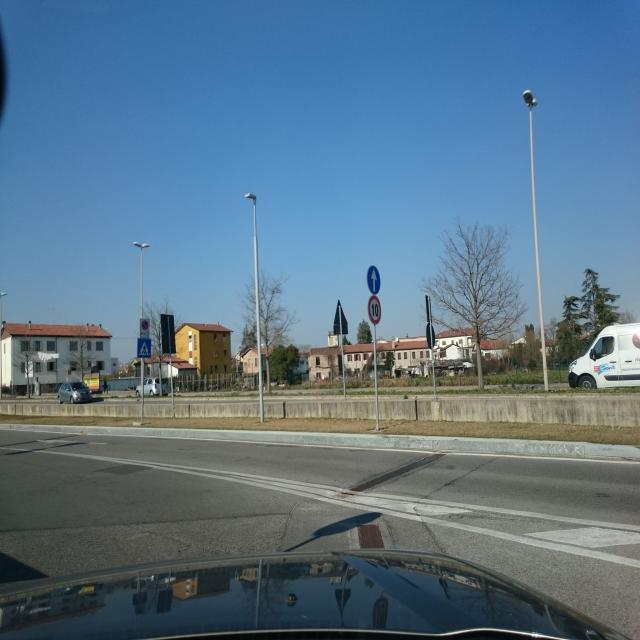forb_stopping: (142, 320, 149, 330)
